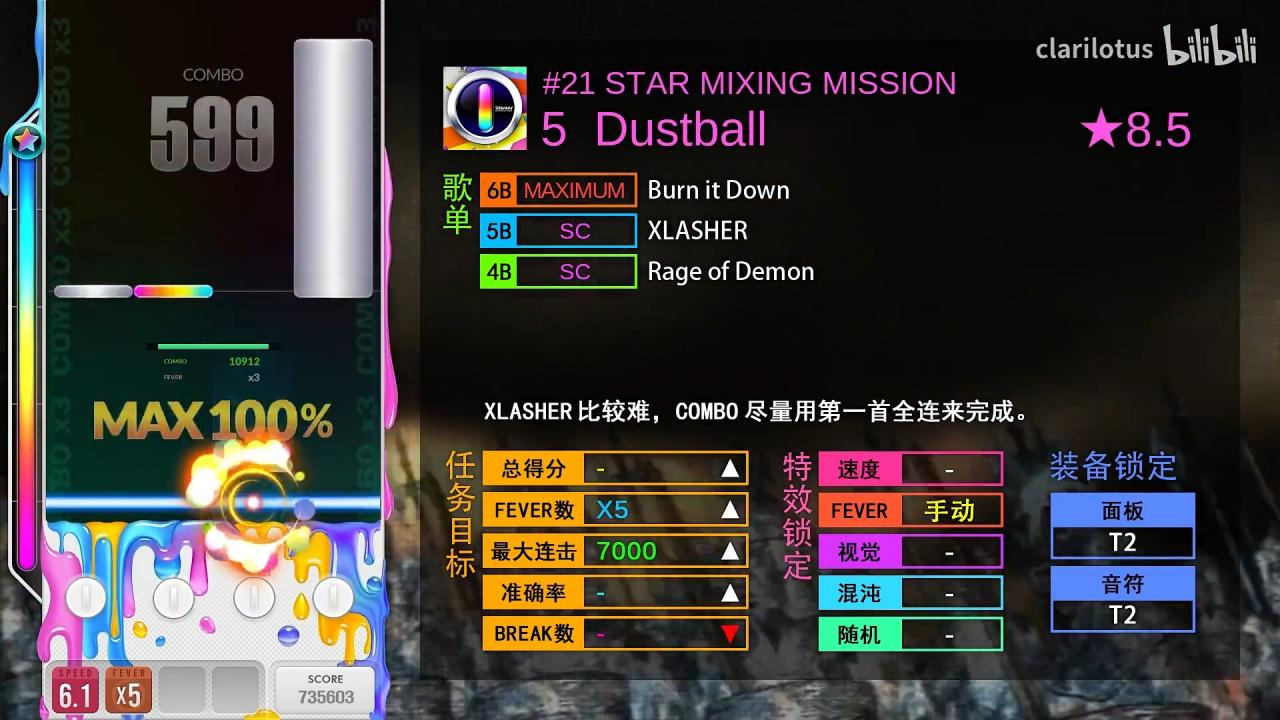hold-end: (294, 38, 374, 50)
hold-start: (294, 284, 374, 298)
note: (54, 284, 132, 300), (134, 284, 213, 299), (212, 459, 294, 473)
